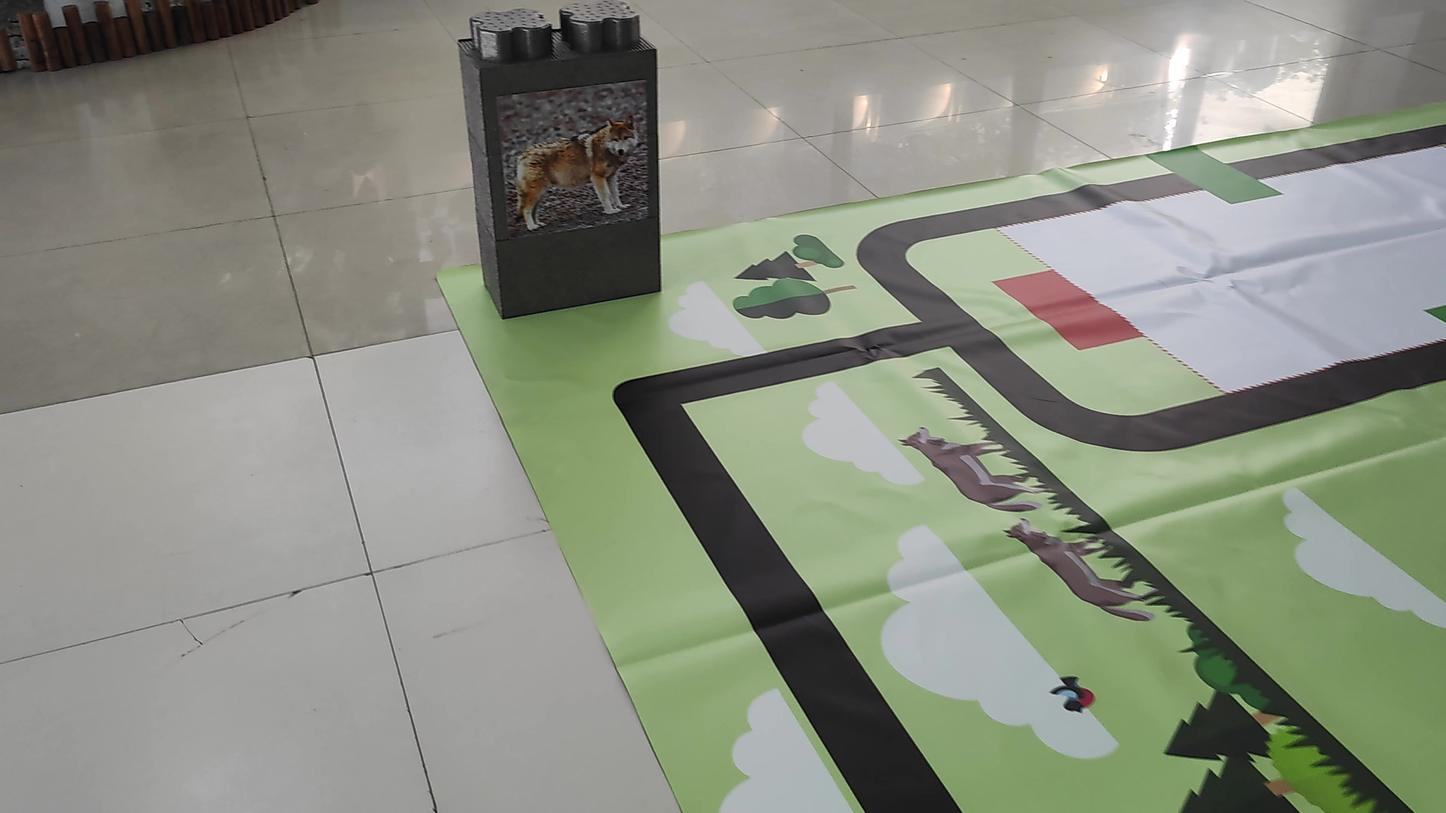wolf: (511, 93, 653, 225)
